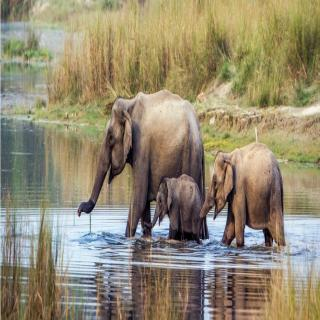Elephant: (78, 94, 206, 251), (196, 145, 288, 256), (144, 176, 206, 250)
